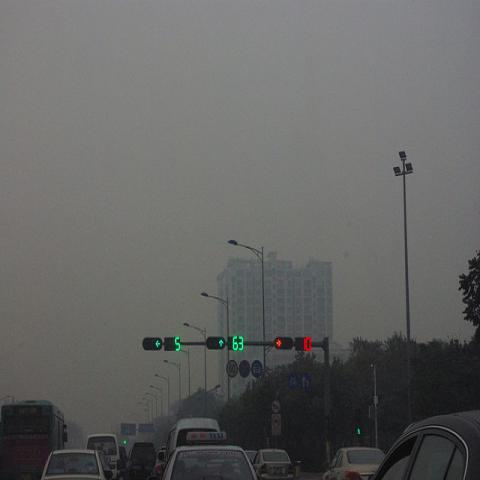bus: (1, 400, 68, 479)
car: (376, 408, 480, 476), (162, 445, 254, 474), (322, 447, 386, 479), (85, 432, 121, 479), (43, 451, 103, 474), (251, 450, 293, 479), (129, 441, 156, 474), (244, 449, 258, 463)
